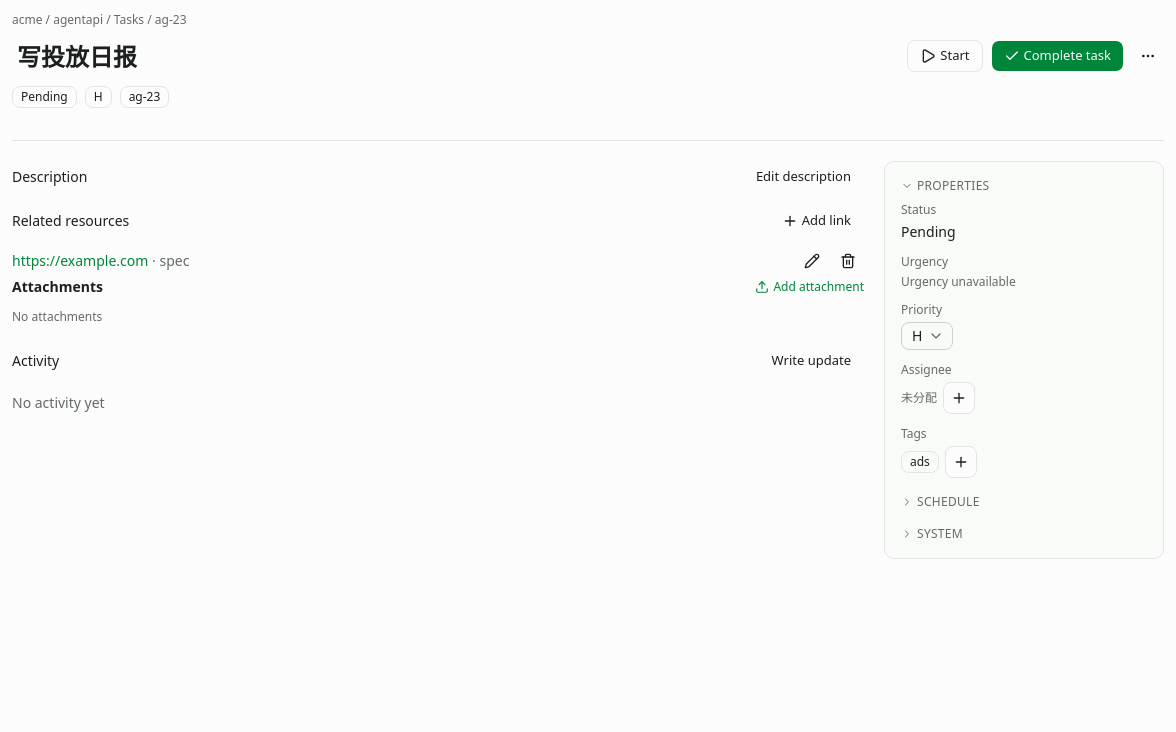
Test: TaskDetailPage › uses an English success toast after modifying a task
Expected: the text "写投放日报" is shown, left=17, top=41, right=137, bottom=73
Click the button with aria-label "Task title": (85, 57) left=12, top=40, right=158, bottom=74
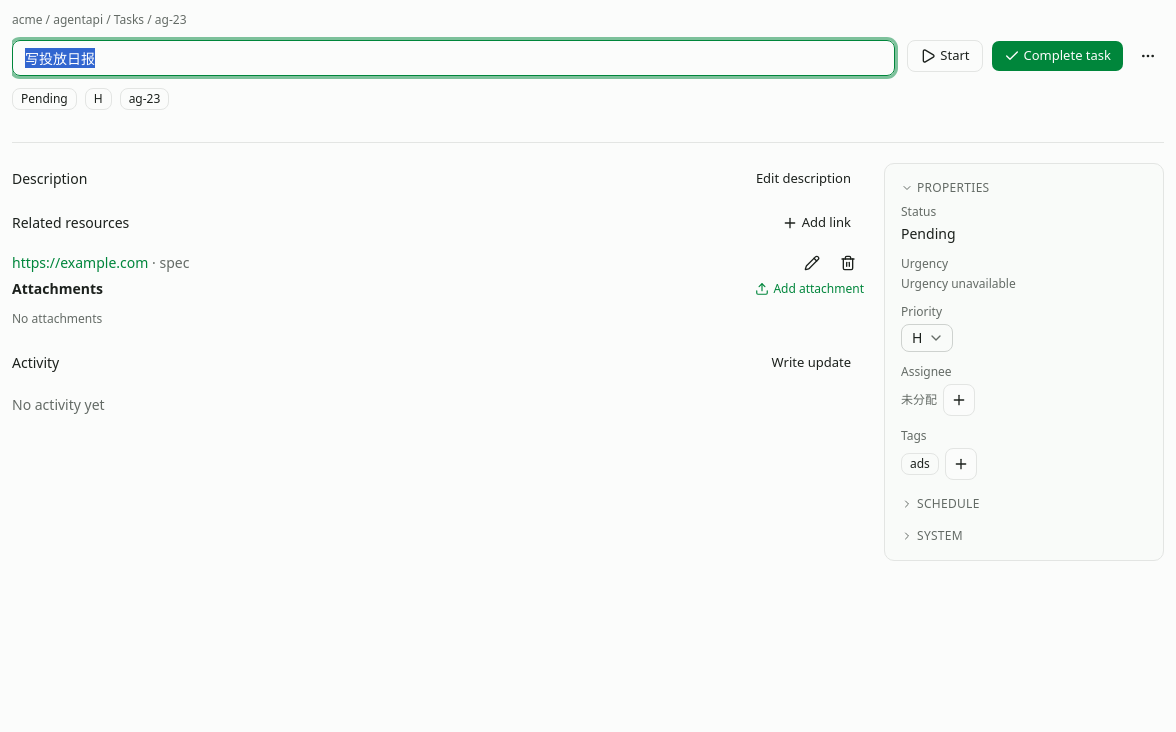
Replace the text in the field named "Task title" with "Weekly report": (454, 58) left=12, top=40, right=895, bottom=76
Then press Enter
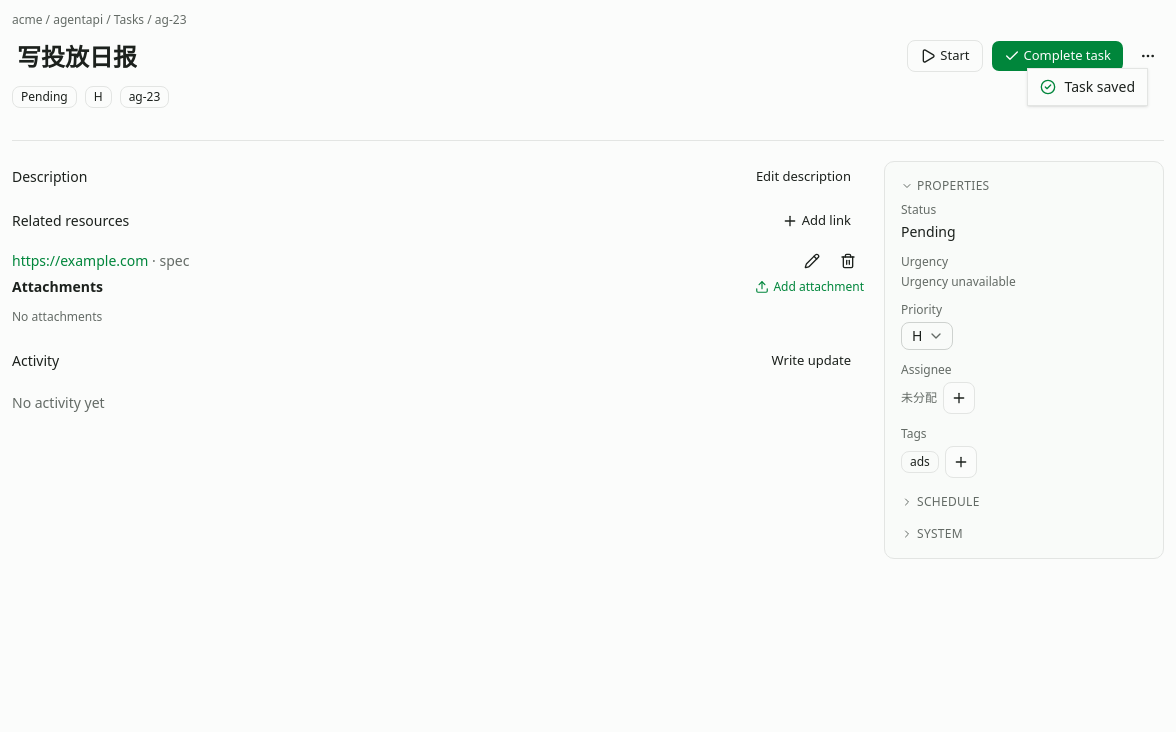
Expected: the message reads "Task saved", left=1064, top=77, right=1135, bottom=96
